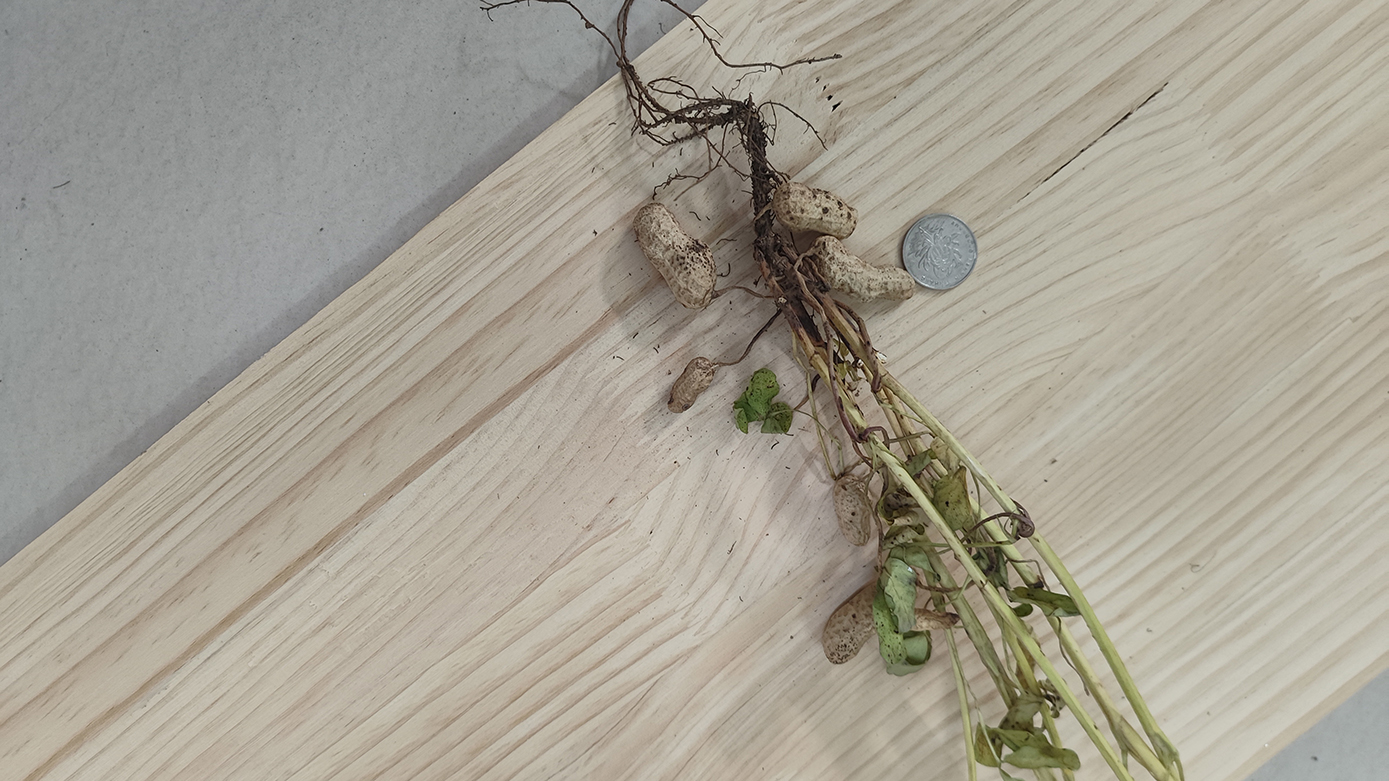h: (633, 203, 717, 308), (811, 234, 915, 303), (771, 181, 858, 238), (822, 579, 875, 664), (833, 473, 871, 547), (668, 357, 714, 413)
l: (912, 608, 958, 629)
